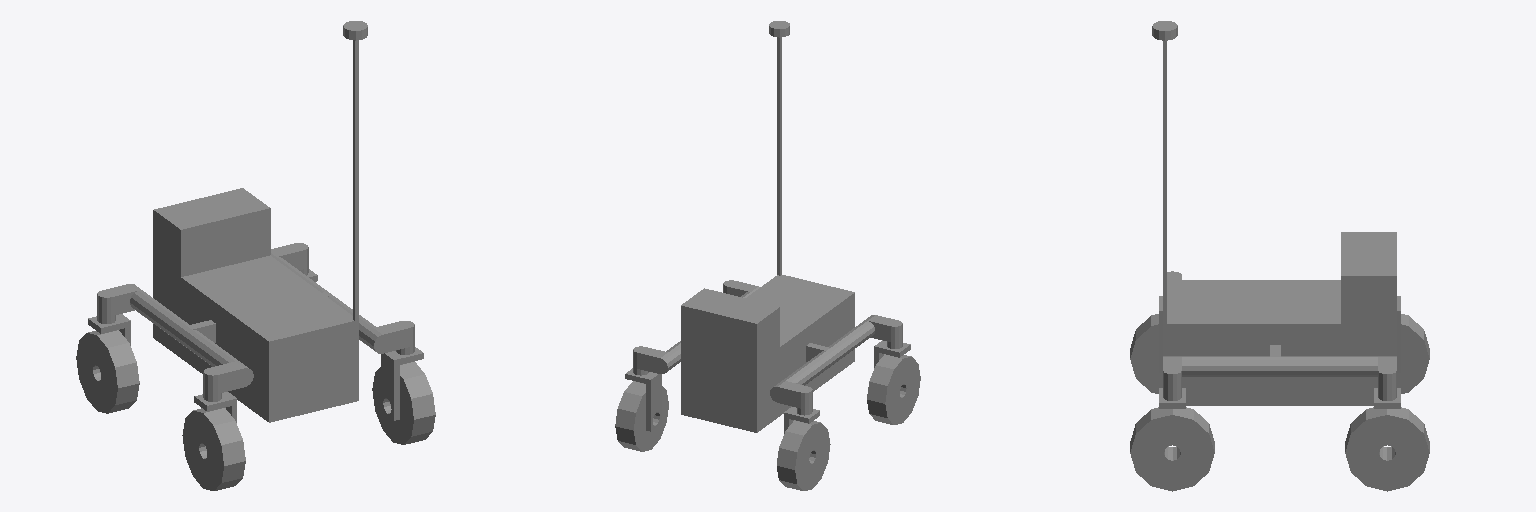
URDF robot description (mini urdf):
<?xml version="1.0" encoding="UTF-8" standalone="yes"?>
<robot xmlns="http://www.ros.org" name="mini urdf">
    <link name="wheelpod_4">
        <inertial>
            <origin xyz="0.0 0.0 0.0" rpy="0.0 -0.0 -3.141592653589793"/>
            <mass value="1.0"/>
            <inertia ixx="1.0" ixy="1.0" ixz="1.0" iyy="1.0" iyz="1.0" izz="1.0"/>
        </inertial>
        <visual>
            <origin xyz="0.0 0.0 0.0" rpy="0.0 -0.0 0.0"/>
            <geometry>
                <mesh filename="package://mini_urdf/meshes/wheelpod_4.stl"/>
            </geometry>
            <material name="material">
                <color rgba="0.611764705882353 0.611764705882353 0.611764705882353 1.0"/>
            </material>
        </visual>
        <collision name="collision">
            <origin xyz="0 0 0" rpy="0.0 -0.0 0.0"/>
            <geometry>
                <mesh filename="package://mini_urdf/meshes/wheelpod_4.stl"/>
            </geometry>
        </collision>
    </link>
    <link name="wheelpod_5">
        <inertial>
            <origin xyz="0.0 0.0 0.0" rpy="0.0 -0.0 3.141592653589793"/>
            <mass value="1.0"/>
            <inertia ixx="1.0" ixy="1.0" ixz="1.0" iyy="1.0" iyz="1.0" izz="1.0"/>
        </inertial>
        <visual>
            <origin xyz="0.0 0.0 0.0" rpy="0.0 -0.0 0.0"/>
            <geometry>
                <mesh filename="package://mini_urdf/meshes/wheelpod_5.stl"/>
            </geometry>
            <material name="material">
                <color rgba="0.611764705882353 0.611764705882353 0.611764705882353 1.0"/>
            </material>
        </visual>
        <collision name="collision">
            <origin xyz="0 0 0" rpy="0.0 -0.0 0.0"/>
            <geometry>
                <mesh filename="package://mini_urdf/meshes/wheelpod_5.stl"/>
            </geometry>
        </collision>
    </link>
    <link name="wheel_3">
        <inertial>
            <origin xyz="0.0 0.0 -0.06" rpy="-1.5707963267948966 -1.5707963267948966 0.0"/>
            <mass value="1.0"/>
            <inertia ixx="1.0" ixy="1.0" ixz="1.0" iyy="1.0" iyz="1.0" izz="1.0"/>
        </inertial>
        <visual>
            <origin xyz="0.0 0.0 -0.06" rpy="-1.5707963267948966 -1.5707963267948966 0.0"/>
            <geometry>
                <mesh filename="package://mini_urdf/meshes/Part_1_3.stl"/>
            </geometry>
            <material name="material">
                <color rgba="0.615686274509804 0.615686274509804 0.615686274509804 1.0"/>
            </material>
        </visual>
        <collision name="collision">
            <origin xyz="0 0 0" rpy="0.0 -0.0 0.0"/>
            <geometry>
                <mesh filename="package://mini_urdf/meshes/Part_1_3.stl"/>
            </geometry>
        </collision>
    </link>
    <link name="wheel_2">
        <inertial>
            <origin xyz="0.0 0.0 0.0" rpy="1.5707963267948966 1.5707963267948966 0.0"/>
            <mass value="1.0"/>
            <inertia ixx="1.0" ixy="1.0" ixz="1.0" iyy="1.0" iyz="1.0" izz="1.0"/>
        </inertial>
        <visual>
            <origin xyz="0.0 0.0 0.0" rpy="1.5707963267948966 1.5707963267948966 0.0"/>
            <geometry>
                <mesh filename="package://mini_urdf/meshes/Part_1_2.stl"/>
            </geometry>
            <material name="material">
                <color rgba="0.615686274509804 0.615686274509804 0.615686274509804 1.0"/>
            </material>
        </visual>
        <collision name="collision">
            <origin xyz="0 0 0" rpy="0.0 -0.0 0.0"/>
            <geometry>
                <mesh filename="package://mini_urdf/meshes/Part_1_2.stl"/>
            </geometry>
        </collision>
    </link>
    <link name="wheel_4">
        <inertial>
            <origin xyz="0.0 0.0 -0.06" rpy="-1.5707963267948966 -1.5707963267948966 0.0"/>
            <mass value="1.0"/>
            <inertia ixx="1.0" ixy="1.0" ixz="1.0" iyy="1.0" iyz="1.0" izz="1.0"/>
        </inertial>
        <visual>
            <origin xyz="0.0 0.0 -0.06" rpy="-1.5707963267948966 -1.5707963267948966 0.0"/>
            <geometry>
                <mesh filename="package://mini_urdf/meshes/Part_1_4.stl"/>
            </geometry>
            <material name="material">
                <color rgba="0.615686274509804 0.615686274509804 0.615686274509804 1.0"/>
            </material>
        </visual>
        <collision name="collision">
            <origin xyz="0 0 0" rpy="0.0 -0.0 0.0"/>
            <geometry>
                <mesh filename="package://mini_urdf/meshes/Part_1_4.stl"/>
            </geometry>
        </collision>
    </link>
    <link name="base_link">
    </link>
    <link name="body_1">
        <inertial>
            <origin xyz="0.0 0.0 0.0" rpy="0.0 -0.0 0.0"/>
            <mass value="1.0"/>
            <inertia ixx="1.0" ixy="1.0" ixz="1.0" iyy="1.0" iyz="1.0" izz="1.0"/>
        </inertial>
        <visual>
            <origin xyz="0.0 0.0 0.0" rpy="0.0 -0.0 0.0"/>
            <geometry>
                <mesh filename="package://mini_urdf/meshes/body_1.stl"/>
            </geometry>
            <material name="material">
                <color rgba="0.615686274509804 0.615686274509804 0.615686274509804 1.0"/>
            </material>
        </visual>
        <collision name="collision">
            <origin xyz="0 0 0" rpy="0.0 -0.0 0.0"/>
            <geometry>
                <mesh filename="package://mini_urdf/meshes/body_1.stl"/>
            </geometry>
        </collision>
    </link>
    <link name="wheelpod_2">
        <inertial>
            <origin xyz="0.0 0.0 0.0" rpy="0.0 -0.0 0.0"/>
            <mass value="1.0"/>
            <inertia ixx="1.0" ixy="1.0" ixz="1.0" iyy="1.0" iyz="1.0" izz="1.0"/>
        </inertial>
        <visual>
            <origin xyz="0.0 0.0 0.0" rpy="0.0 -0.0 0.0"/>
            <geometry>
                <mesh filename="package://mini_urdf/meshes/wheelpod_2.stl"/>
            </geometry>
            <material name="material">
                <color rgba="0.611764705882353 0.611764705882353 0.611764705882353 1.0"/>
            </material>
        </visual>
        <collision name="collision">
            <origin xyz="0 0 0" rpy="0.0 -0.0 0.0"/>
            <geometry>
                <mesh filename="package://mini_urdf/meshes/wheelpod_2.stl"/>
            </geometry>
        </collision>
    </link>
    <link name="wheelpod_3">
        <inertial>
            <origin xyz="0.0 0.0 0.0" rpy="0.0 -0.0 0.0"/>
            <mass value="1.0"/>
            <inertia ixx="1.0" ixy="1.0" ixz="1.0" iyy="1.0" iyz="1.0" izz="1.0"/>
        </inertial>
        <visual>
            <origin xyz="0.0 0.0 0.0" rpy="0.0 -0.0 0.0"/>
            <geometry>
                <mesh filename="package://mini_urdf/meshes/wheelpod_3.stl"/>
            </geometry>
            <material name="material">
                <color rgba="0.611764705882353 0.611764705882353 0.611764705882353 1.0"/>
            </material>
        </visual>
        <collision name="collision">
            <origin xyz="0 0 0" rpy="0.0 -0.0 0.0"/>
            <geometry>
                <mesh filename="package://mini_urdf/meshes/wheelpod_3.stl"/>
            </geometry>
        </collision>
    </link>
    <link name="wheel_1">
        <inertial>
            <origin xyz="0.0 0.0 0.0" rpy="1.5707963267948966 1.5707963267948966 0.0"/>
            <mass value="1.0"/>
            <inertia ixx="1.0" ixy="1.0" ixz="1.0" iyy="1.0" iyz="1.0" izz="1.0"/>
        </inertial>
        <visual>
            <origin xyz="0.0 0.0 0.0" rpy="1.5707963267948966 1.5707963267948966 0.0"/>
            <geometry>
                <mesh filename="package://mini_urdf/meshes/Part_1_1.stl"/>
            </geometry>
            <material name="material">
                <color rgba="0.615686274509804 0.615686274509804 0.615686274509804 1.0"/>
            </material>
        </visual>
        <collision name="collision">
            <origin xyz="0 0 0" rpy="0.0 -0.0 0.0"/>
            <geometry>
                <mesh filename="package://mini_urdf/meshes/Part_1_1.stl"/>
            </geometry>
        </collision>
    </link>
    <joint name="base_joint" type="fixed">
        <origin xyz="0.0 0.0 0.0" rpy="0.0 0.0 0.0"/>
        <parent link="base_link"/>
        <child link="body_1"/>
    </joint>
    <joint name="steer_br" type="revolute">
        <origin xyz="-0.26550000000000007 0.2539125000000001 0.08939999999999998" rpy="0.0 -0.0 0.0"/>
        <parent link="body_1"/>
        <child link="wheelpod_2"/>
        <axis xyz="0 0 1"/>
        <limit lower="-1.7976931348623157E308" upper="1.7976931348623157E308" effort="10.0" velocity="1.0"/>
    </joint>
    <joint name="steer_fr" type="revolute">
        <origin xyz="-0.26550000000000007 -0.2539125 0.08939999999999998" rpy="0.0 -0.0 0.0"/>
        <parent link="body_1"/>
        <child link="wheelpod_3"/>
        <axis xyz="0 0 1"/>
        <limit lower="-1.7976931348623157E308" upper="1.7976931348623157E308" effort="10.0" velocity="1.0"/>
    </joint>
    <joint name="steer_fl" type="revolute">
        <origin xyz="0.26549999999999996 -0.2539125 0.08939999999999998" rpy="0.0 -0.0 3.141592653589793"/>
        <parent link="body_1"/>
        <child link="wheelpod_4"/>
        <axis xyz="0 0 1"/>
        <limit lower="-1.7976931348623157E308" upper="1.7976931348623157E308" effort="10.0" velocity="1.0"/>
    </joint>
    <joint name="steer_bl" type="revolute">
        <origin xyz="0.26549999999999996 0.2539125000000001 0.08939999999999998" rpy="0.0 -0.0 3.141592653589793"/>
        <parent link="body_1"/>
        <child link="wheelpod_5"/>
        <axis xyz="0 0 1"/>
        <limit lower="-1.7976931348623157E308" upper="1.7976931348623157E308" effort="10.0" velocity="1.0"/>
    </joint>
    <joint name="drive_fr" type="revolute">
        <origin xyz="0.03350000000000003 0.0 -0.13335" rpy="1.5707963267948966 -0.0 1.5707963267948966"/>
        <parent link="wheelpod_3"/>
        <child link="wheel_3"/>
        <axis xyz="0 0 1"/>
        <limit lower="-1.7976931348623157E308" upper="1.7976931348623157E308" effort="10.0" velocity="1.0"/>
    </joint>
    <joint name="drive_fl" type="revolute">
        <origin xyz="0.0335 0.0 -0.13335" rpy="-1.5707963267948966 -0.0 -1.5707963267948966"/>
        <parent link="wheelpod_4"/>
        <child link="wheel_1"/>
        <axis xyz="0 0 1"/>
        <limit lower="-1.7976931348623157E308" upper="1.7976931348623157E308" effort="10.0" velocity="1.0"/>
    </joint>
    <joint name="drive_bl" type="revolute">
        <origin xyz="0.0335 0.0 -0.13335" rpy="-1.5707963267948966 -0.0 -1.5707963267948966"/>
        <parent link="wheelpod_5"/>
        <child link="wheel_2"/>
        <axis xyz="0 0 1"/>
        <limit lower="-1.7976931348623157E308" upper="1.7976931348623157E308" effort="10.0" velocity="1.0"/>
    </joint>
    <joint name="drive_br" type="revolute">
        <origin xyz="0.03350000000000003 0.0 -0.13335" rpy="1.5707963267948966 -0.0 1.5707963267948966"/>
        <parent link="wheelpod_2"/>
        <child link="wheel_4"/>
        <axis xyz="0 0 1"/>
        <limit lower="-1.7976931348623157E308" upper="1.7976931348623157E308" effort="10.0" velocity="1.0"/>
    </joint>
</robot>

--- What the picture shows (computed from the rendered views, not written in the file) ---
The picture shows the robot from 3 angles, left to right: view 1: azimuth 30°, elevation 25°; view 2: azimuth 150°, elevation 25°; view 3: azimuth 270°, elevation 25°; orthographic projection.
Robot: mini urdf — 10 links, 9 joints (8 revolute, 1 fixed); root link base_link; default pose: every joint at zero.
Links seen in each view (by area): view 1: body_1, wheel_4, wheel_3, wheel_1, wheelpod_4, wheelpod_2, wheelpod_3; view 2: body_1, wheel_3, wheel_4, wheel_2, wheelpod_5; view 3: body_1, wheel_2, wheel_1, wheel_3, wheel_4.
Boxes of the visible links, x1,y1,x2,y2 form: body_1: (97,21,414,422); wheel_4: (76,330,139,413); wheel_3: (182,408,245,490); wheel_1: (372,361,435,444); wheelpod_4: (381,347,423,420); wheelpod_2: (88,314,130,345); wheelpod_3: (194,392,236,422); body_1: (633,21,902,432); wheel_3: (867,354,920,424); wheel_4: (777,420,830,490); wheel_2: (615,381,668,451); wheelpod_5: (625,368,661,431); body_1: (1152,21,1396,405); wheel_2: (1345,407,1429,491); wheel_1: (1130,407,1214,491); wheel_3: (1130,314,1162,393); wheel_4: (1397,314,1429,393).
Bounding box of the posed robot: 0.598 × 0.7078 × 1.13 m (x, y, z).
9 mesh visuals loaded from 9 distinct referenced files (9 ASCII STL).